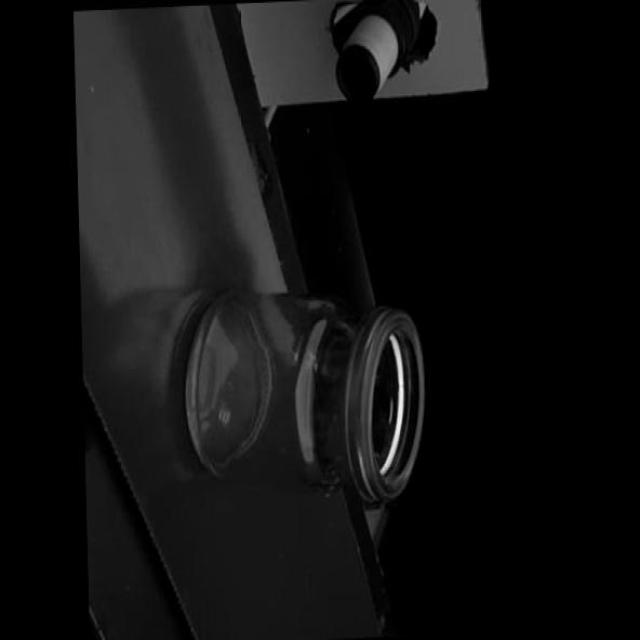glass: (171, 286, 427, 514)
